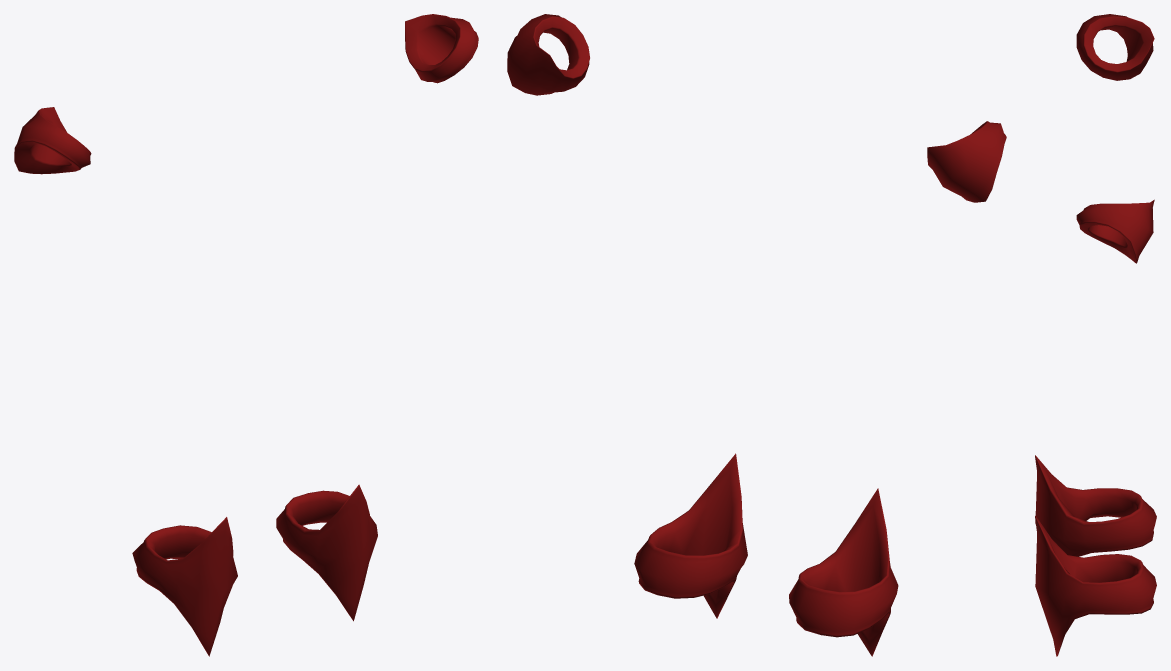
The model's file is equipement_guerriere.fbx.
3 views of the same model, side by side, from view 1: azimuth 30°, elevation 25°; view 2: azimuth 150°, elevation 25°; view 3: azimuth 270°, elevation 25° (orthographic). The views are drawn at different scales.
Parts seen in each view (by area): view 1: genouillere_g, genouillere_d, coude_d, coude_g; view 2: genouillere_d, genouillere_g, coude_d, coude_g; view 3: genouillere_d, genouillere_g, coude_g, coude_d.
Boxes of the visible parts, <box> form: genouillere_g: <box>132,517,237,656</box>; genouillere_d: <box>276,484,377,621</box>; coude_d: <box>405,14,478,83</box>; coude_g: <box>14,107,91,174</box>; genouillere_d: <box>634,453,747,618</box>; genouillere_g: <box>789,488,898,656</box>; coude_d: <box>507,14,589,95</box>; coude_g: <box>927,121,1006,202</box>; genouillere_d: <box>1035,516,1156,656</box>; genouillere_g: <box>1035,455,1156,556</box>; coude_g: <box>1076,14,1154,80</box>; coude_d: <box>1076,199,1154,263</box>.
Size of the model in its own units: 80.11 by 91.94 by 19.78.
